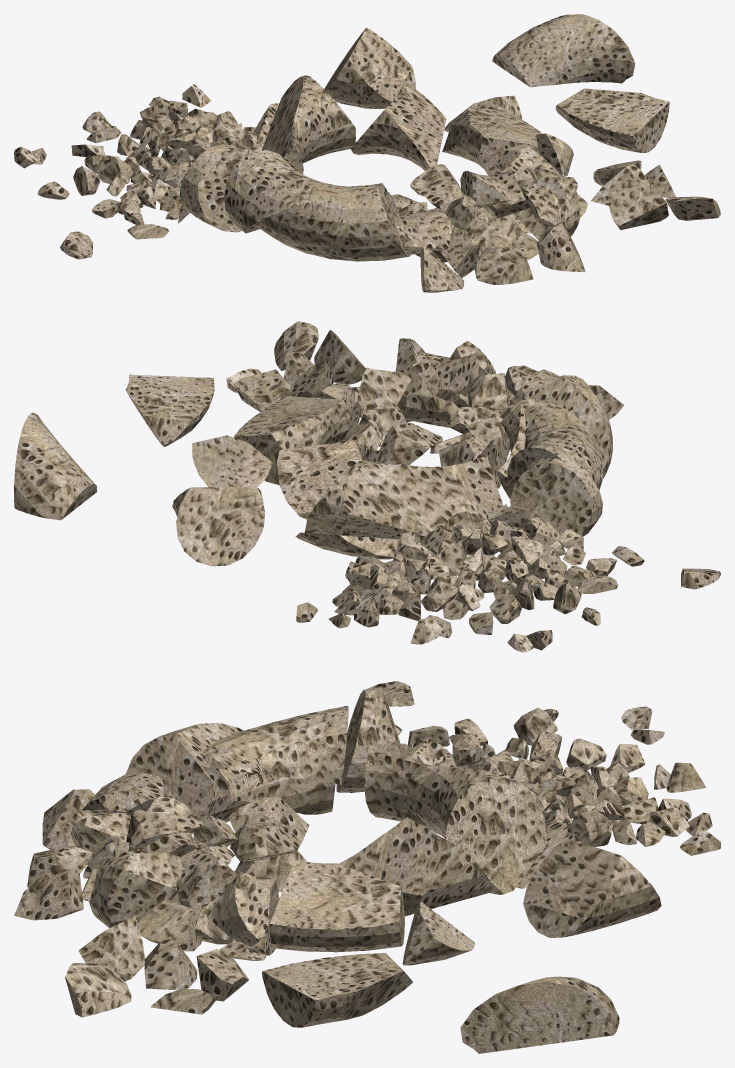
Rendered from rocks5.fbx.
3 views of the same model, one above another, from view 1: azimuth 30°, elevation 25°; view 2: azimuth 150°, elevation 25°; view 3: azimuth 270°, elevation 25° (orthographic). The views are drawn at different scales.
Parts seen in each view (by area): view 1: Piece_2_2, Piece_5_4, Piece_1_6, Piece_1, Piece_1_2, Piece_0_7, Piece_6_4, Piece_2, Piece_0_3, Piece_9, Piece_3_2, Piece_19_2 (+25 smaller); view 2: Piece_1_6, Piece_0_7, Piece_5_4, Piece_0_3, Piece_2, Piece_1, Piece_6_4, Piece_1_2, Piece_0_2, Piece_2_2, Piece_12, Piece_11 (+34 smaller); view 3: Piece_1_6, Piece_2, Piece_0_7, Piece_5_4, Piece_1_2, Piece_1, Piece_6_4, Piece_2_2, Piece_13, Piece_0_3, Piece_0, Piece_0_4 (+34 smaller).
Part boxes in pixels (bbox=[...]): Piece_2_2: bbox=[257, 185, 410, 261]; Piece_5_4: bbox=[492, 14, 635, 87]; Piece_1_6: bbox=[261, 75, 355, 173]; Piece_1: bbox=[224, 150, 370, 233]; Piece_1_2: bbox=[555, 88, 669, 152]; Piece_0_7: bbox=[324, 28, 415, 108]; Piece_6_4: bbox=[351, 84, 446, 170]; Piece_2: bbox=[442, 107, 542, 175]; Piece_0_3: bbox=[179, 144, 249, 232]; Piece_9: bbox=[608, 181, 668, 230]; Piece_3_2: bbox=[392, 208, 454, 254]; Piece_19_2: bbox=[475, 247, 533, 284]; Piece_1_6: bbox=[304, 455, 508, 539]; Piece_0_7: bbox=[172, 486, 265, 566]; Piece_5_4: bbox=[14, 412, 97, 520]; Piece_0_3: bbox=[510, 457, 602, 547]; Piece_2: bbox=[234, 396, 349, 485]; Piece_1: bbox=[507, 398, 603, 489]; Piece_6_4: bbox=[274, 440, 386, 519]; Piece_1_2: bbox=[126, 374, 214, 446]; Piece_0_2: bbox=[192, 435, 273, 487]; Piece_2_2: bbox=[529, 375, 613, 478]; Piece_12: bbox=[379, 422, 442, 465]; Piece_11: bbox=[357, 367, 411, 410]; Piece_1_6: bbox=[364, 750, 547, 894]; Piece_2: bbox=[269, 860, 404, 952]; Piece_0_7: bbox=[523, 838, 661, 937]; Piece_5_4: bbox=[460, 976, 619, 1053]; Piece_1_2: bbox=[262, 953, 412, 1027]; Piece_1: bbox=[200, 706, 348, 784]; Piece_6_4: bbox=[339, 817, 492, 916]; Piece_2_2: bbox=[126, 722, 250, 821]; Piece_13: bbox=[89, 852, 185, 928]; Piece_0_3: bbox=[336, 687, 403, 792]; Piece_0: bbox=[202, 766, 335, 814]; Piece_0_4: bbox=[211, 872, 268, 946].
Size of the model in its own units: 1083 by 135 by 886.
1 material, 1 textured.
